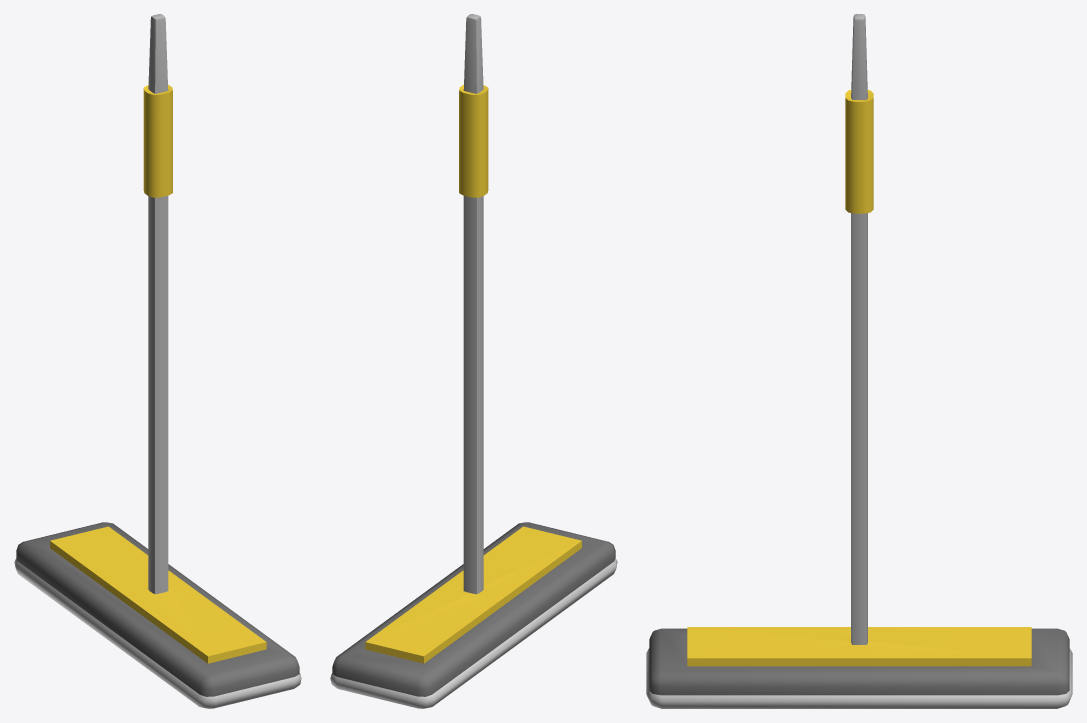
Rendered from Mop.fbx.
The picture shows the model from 3 angles, left to right: view 1: azimuth 30°, elevation 25°; view 2: azimuth 150°, elevation 25°; view 3: azimuth 270°, elevation 25°; orthographic projection. The views are drawn at different scales.
Visible parts, largest first — view 1: Mop; view 2: Mop; view 3: Mop.
Part boxes in pixels (x1=…): Mop: x1=14, y1=14, x2=301, y2=708; Mop: x1=330, y1=14, x2=617, y2=708; Mop: x1=646, y1=14, x2=1072, y2=708.
Size of the model in its own units: 0.1141 by 0.3723 by 0.6476.
